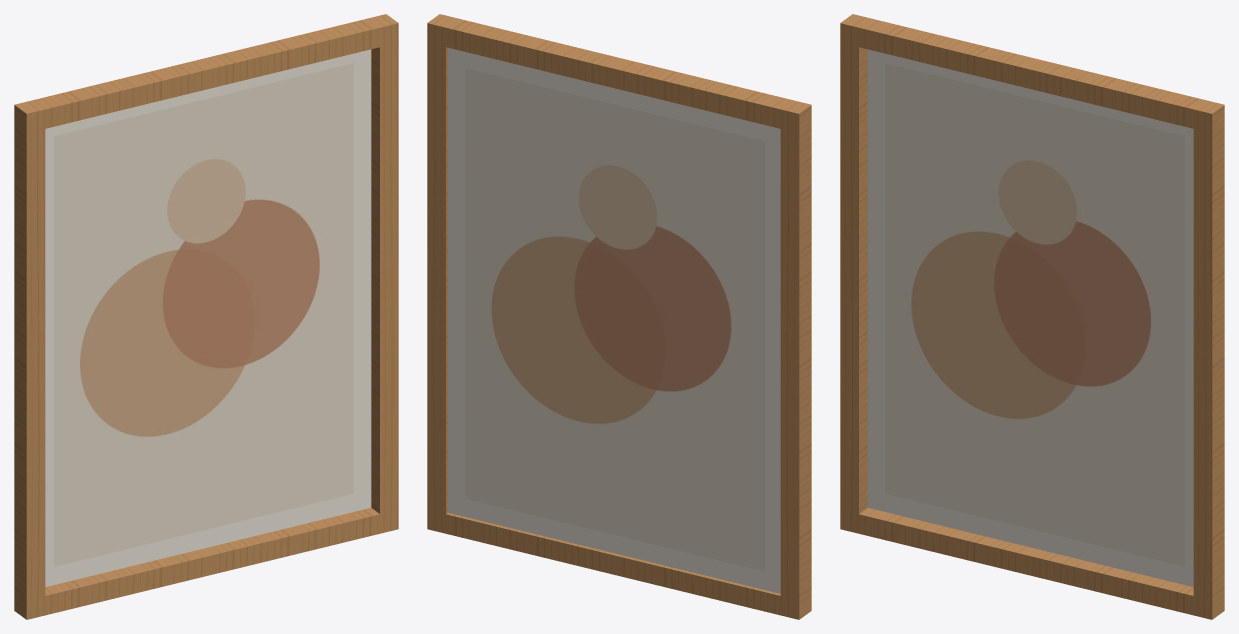
Rendered from art-abstract-circles.glb.
3 views of the same model, side by side, from view 1: azimuth 30°, elevation 25°; view 2: azimuth 150°, elevation 25°; view 3: azimuth 330°, elevation 25° (orthographic).
Parts seen in each view (by area): view 1: art-abstract-circles; view 2: art-abstract-circles; view 3: art-abstract-circles.
Boxes of the visible parts, x1,y1,x2,y2 form: art-abstract-circles: (14,14,398,619); art-abstract-circles: (427,14,811,619); art-abstract-circles: (840,14,1224,619).
Bounding box in the file's own units: 0.6 × 0.78 × 0.035.
Materials: 2 (2 with a texture image).
